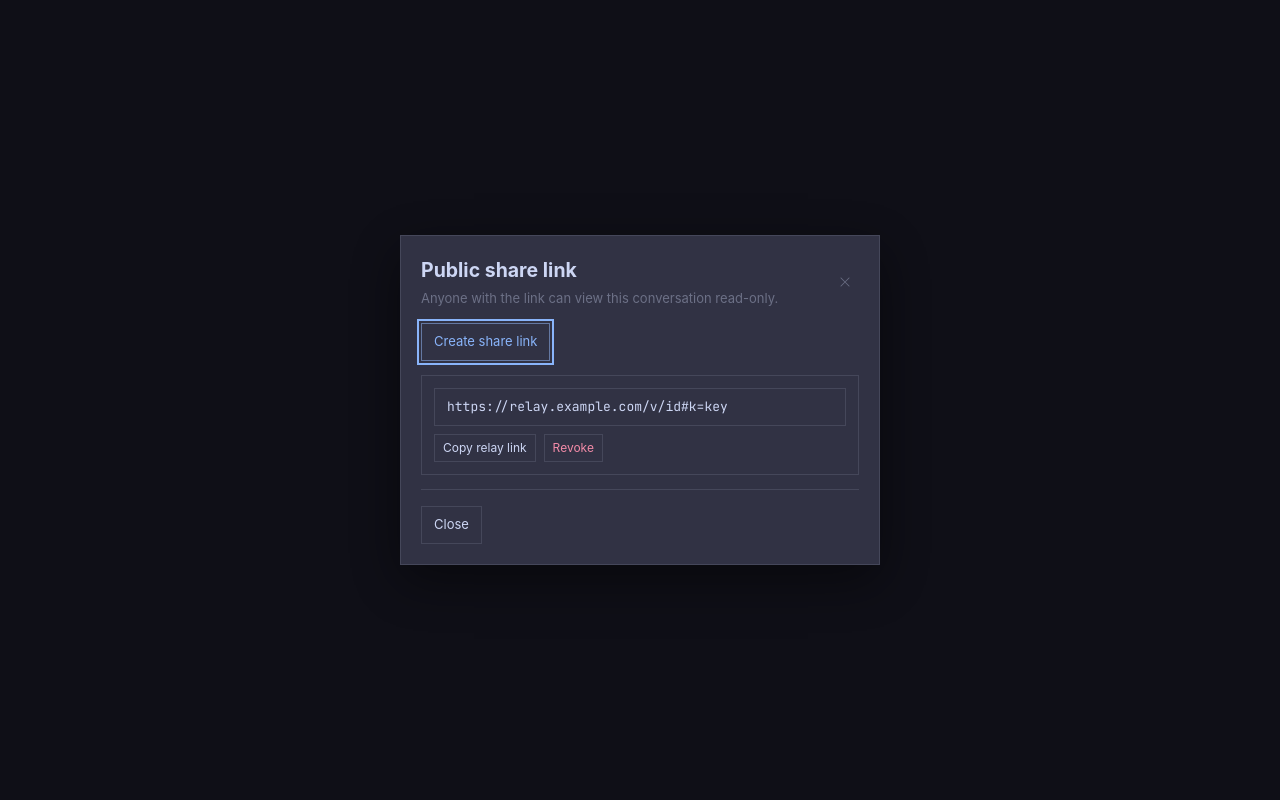
Test case: ShareLinkModal › drops a revoked link from the list
The width and height of the screenshot is (1280, 800).
Click the button with test id "share-revoke-link": (573, 448) [544,434,603,462]
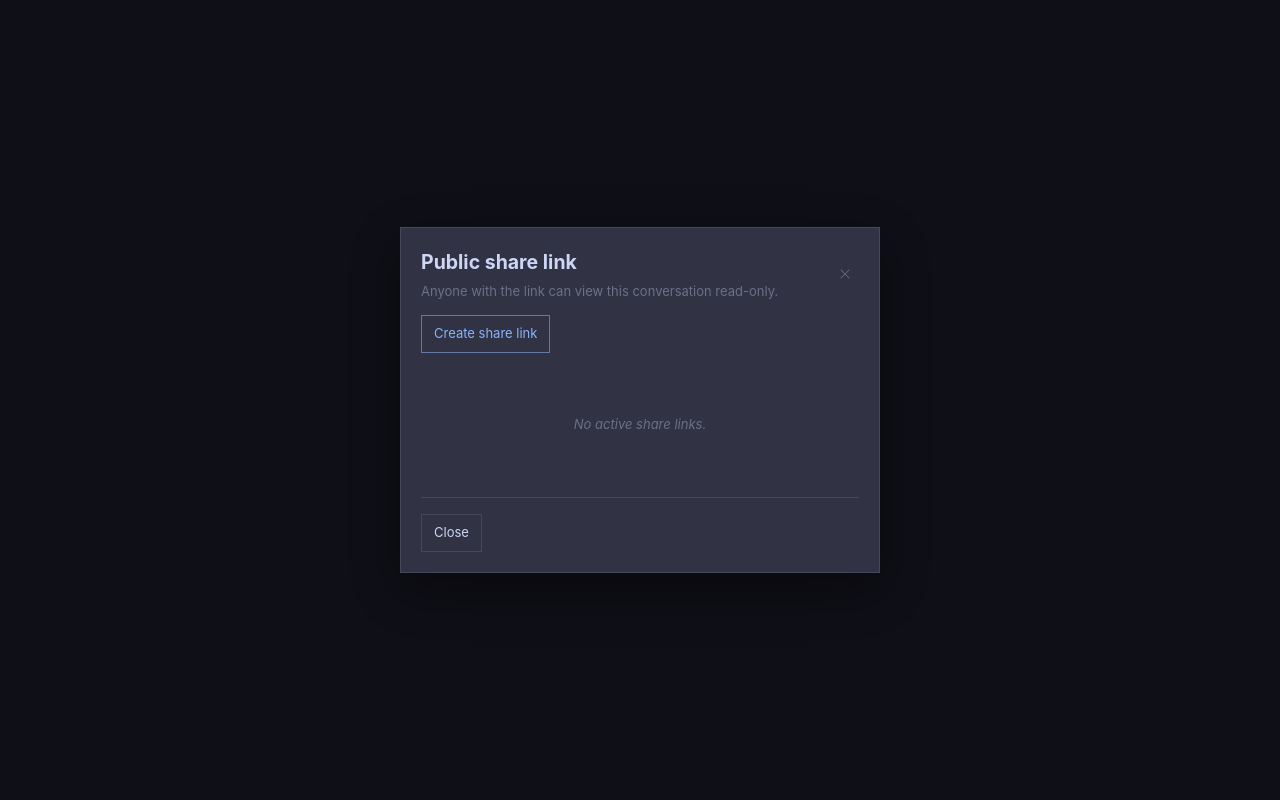
Expected: the text "No active share links." is shown, [574,416,706,432]
